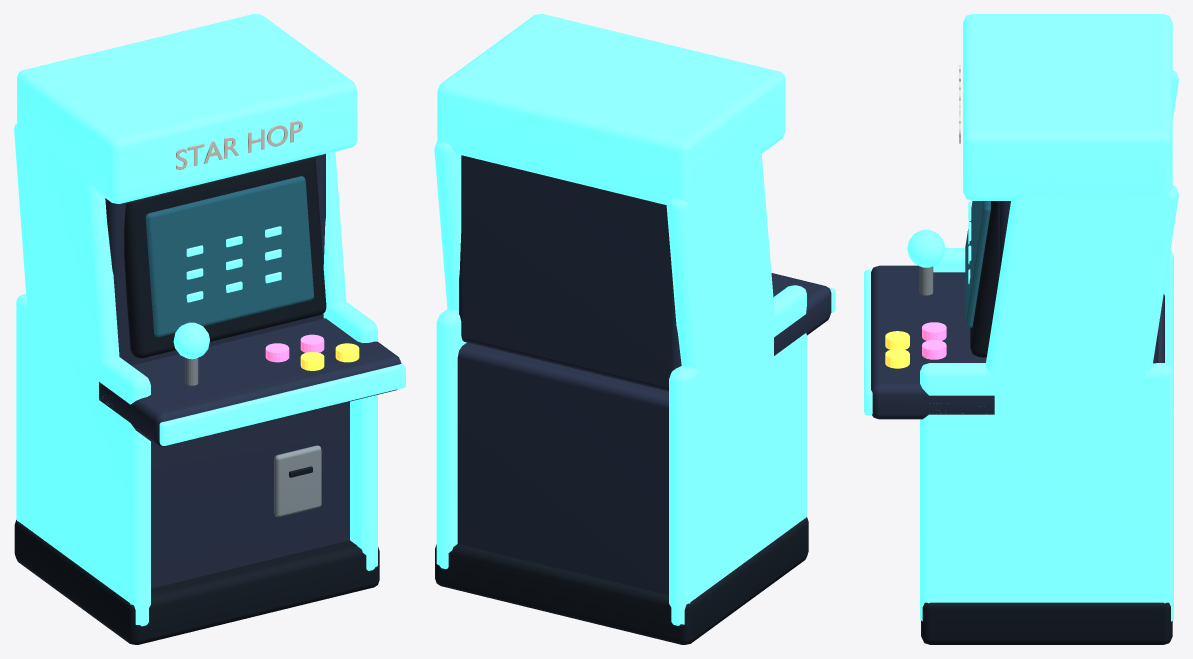
Rendered from machine-classic.glb.
The picture shows the model from 3 angles, left to right: view 1: azimuth 30°, elevation 25°; view 2: azimuth 150°, elevation 25°; view 3: azimuth 270°, elevation 25°; orthographic projection. The views are drawn at different scales.
Parts seen in each view (by area): view 1: Marquee, Side lower, Lower cabinet, Display, Side upper, Foot plinth, Control deck, CRT bezel, Deck lip, Side lower.001, Screen housing, Coin plate (+3 smaller); view 2: Marquee, Lower cabinet, Screen housing, Side lower, Side upper, Foot plinth, Side lower.001, Side upper.001, Control deck; view 3: Side lower.001, Marquee, Side upper.001, Control deck, Foot plinth, CRT bezel, Display, Side lower, Joystick ball, Deck lip, Screen housing, Button.003.
Boxes of the visible parts, box(x1,y1,x2,y2) form: Marquee: box(17, 14, 357, 203); Side lower: box(16, 294, 150, 626); Lower cabinet: box(151, 401, 349, 588); Display: box(145, 176, 313, 337); Side upper: box(14, 123, 119, 374); Foot plinth: box(14, 520, 379, 644); Control deck: box(99, 318, 401, 446); CRT bezel: box(124, 156, 326, 358); Deck lip: box(159, 364, 405, 445); Side lower.001: box(323, 301, 377, 570); Screen housing: box(105, 154, 325, 365); Coin plate: box(274, 445, 321, 516); Marquee: box(437, 14, 785, 205); Lower cabinet: box(457, 342, 668, 595); Screen housing: box(459, 155, 681, 391); Side lower: box(669, 285, 806, 625); Side upper: box(666, 151, 774, 399); Foot plinth: box(435, 517, 808, 644); Side lower.001: box(436, 309, 466, 569); Side upper.001: box(434, 141, 461, 311); Control deck: box(771, 273, 831, 355); Side lower.001: box(920, 363, 1173, 621); Marquee: box(963, 14, 1172, 200); Side upper.001: box(986, 181, 1178, 405); Control deck: box(871, 265, 994, 419); Foot plinth: box(921, 602, 1172, 644); CRT bezel: box(970, 201, 998, 357); Display: box(965, 201, 990, 328); Side lower: box(933, 248, 1173, 370); Joystick ball: box(907, 229, 945, 267); Deck lip: box(864, 270, 872, 415); Screen housing: box(998, 201, 1158, 363); Button.003: box(885, 348, 909, 368).
Bounding box in the file's own units: 1.15 × 2.15 × 1.2.
